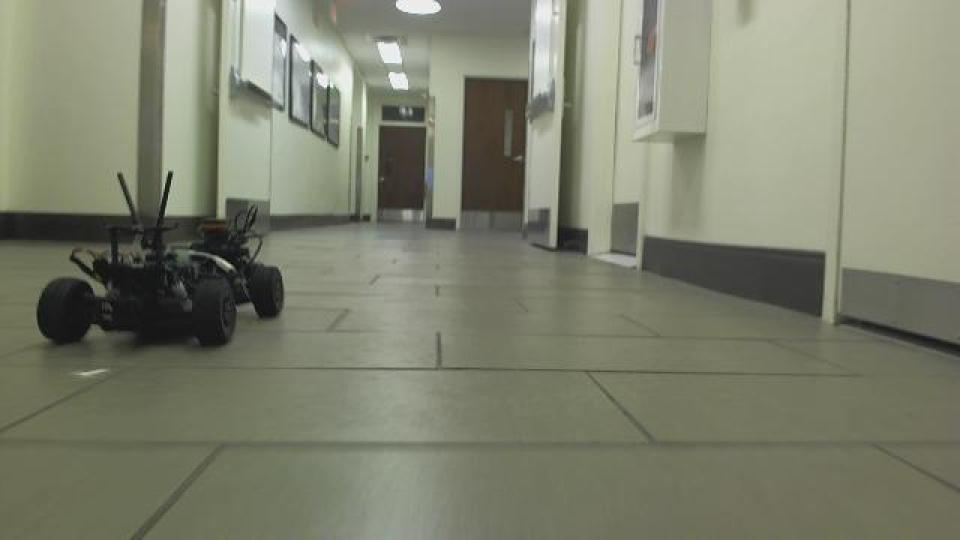car: (33, 167, 287, 351)
